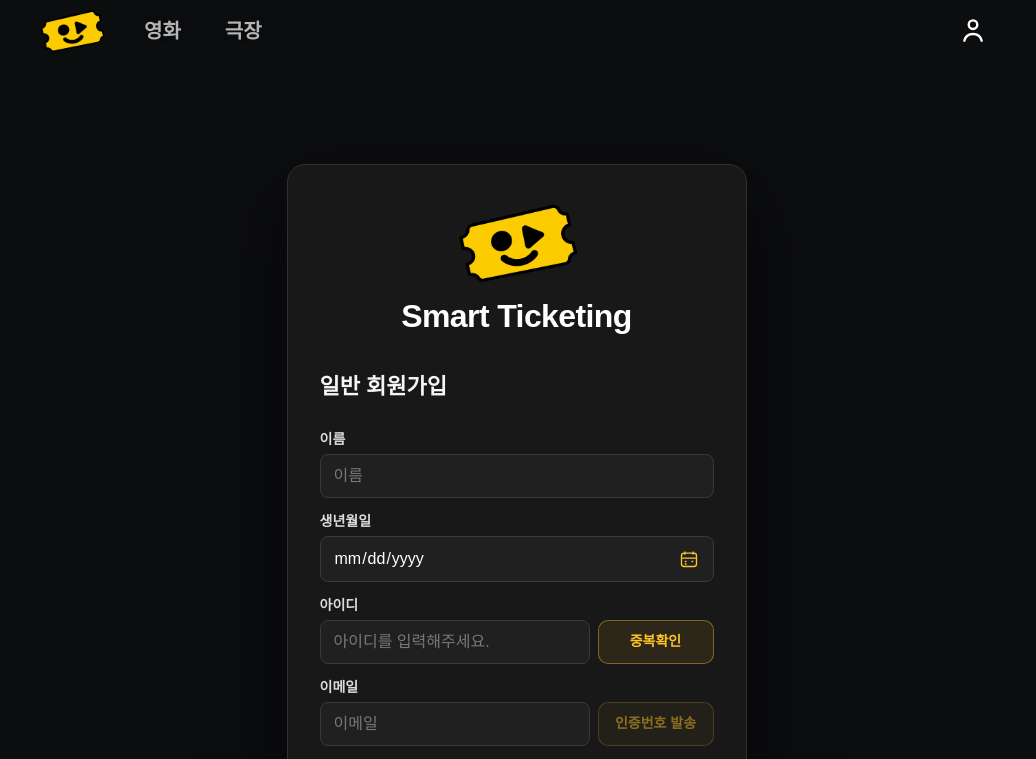
Test: an already taken login ID keeps signup disabled
The image size is (1036, 759).
In the field labelled "아이디": {"x": 454, "y": 642} [320,620,590,664], type "tester@example.com"
(page scrolled)
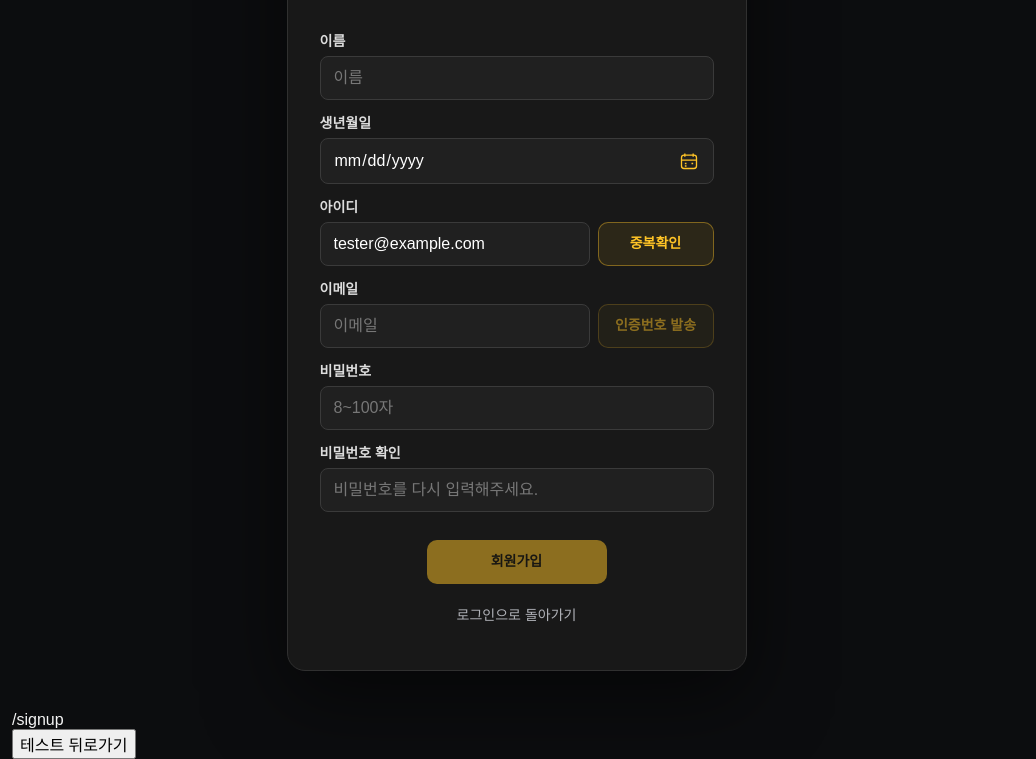
In the password field labelled "비밀번호": {"x": 516, "y": 408} [320,386,714,430], type "password123"
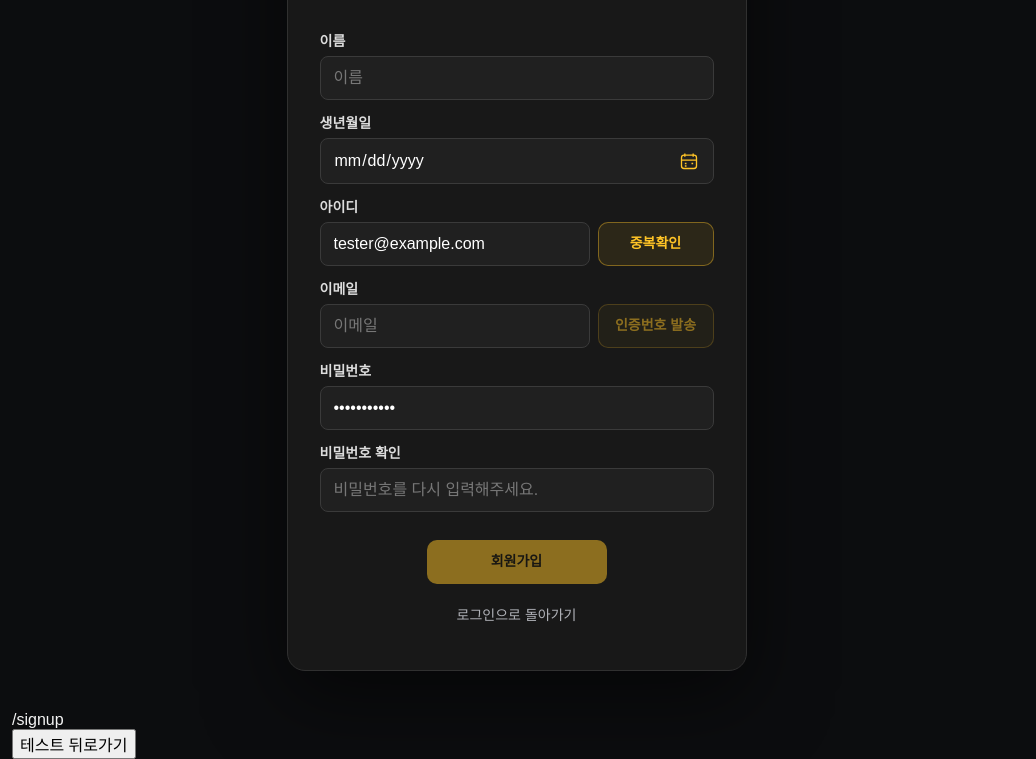
In the password field labelled "비밀번호 확인": {"x": 516, "y": 490} [320,468,714,512], type "password123"
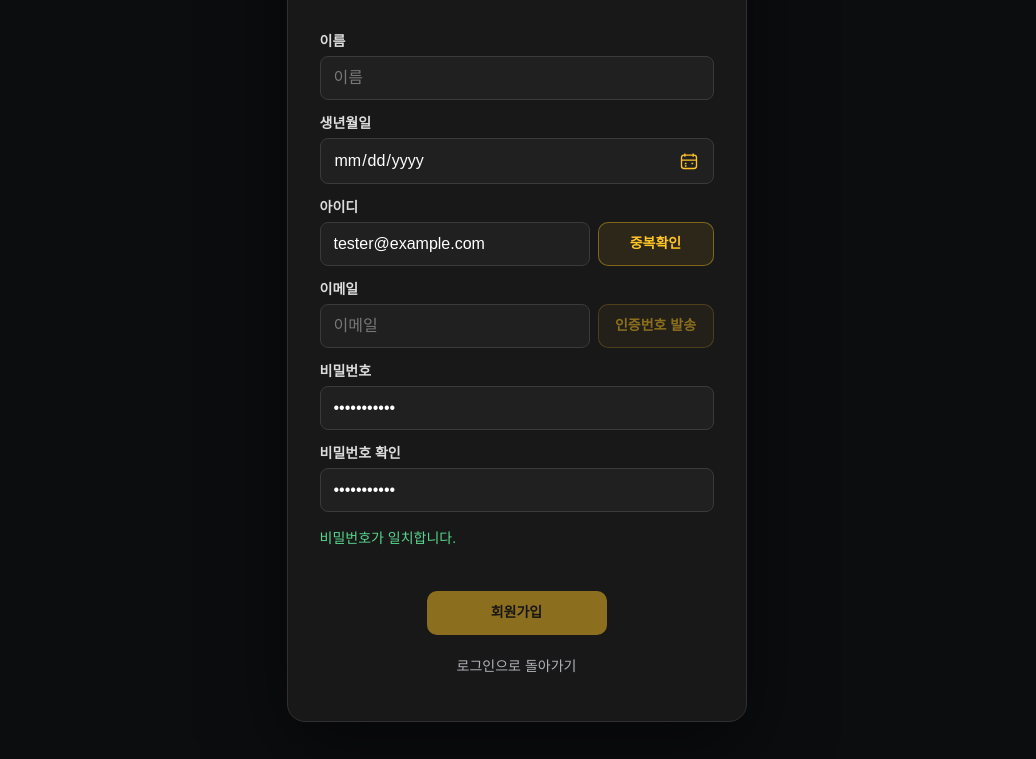
Click the button "중복확인": {"x": 656, "y": 244} [598,222,714,266]
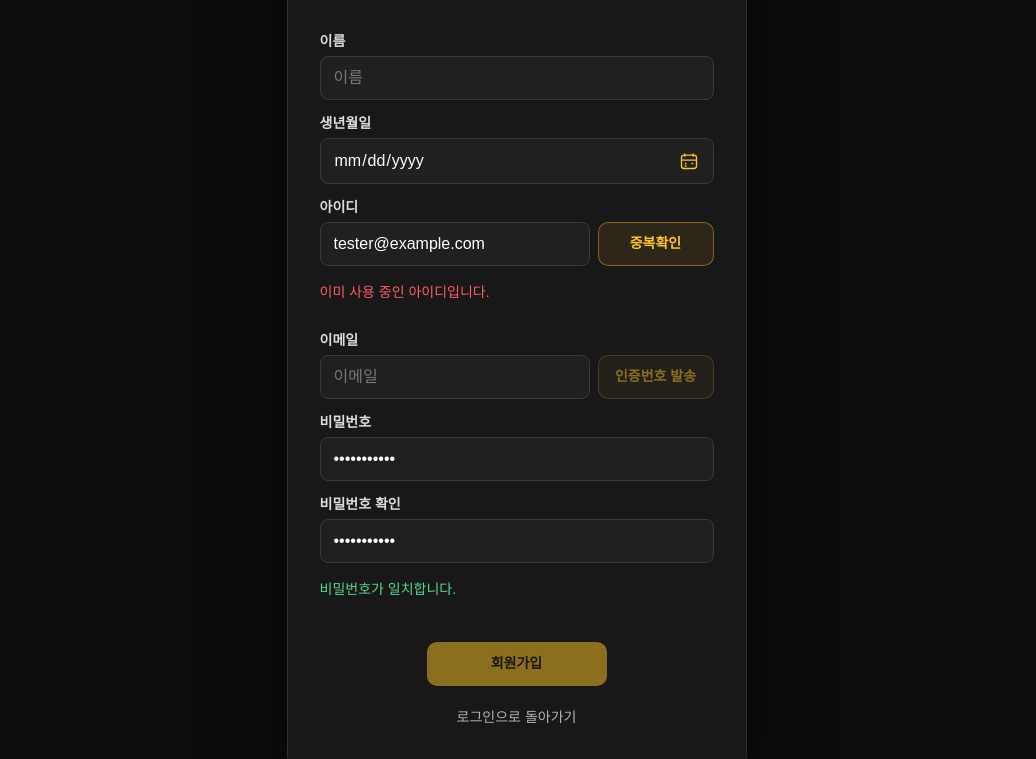
Check: the button "회원가입" is disabled, box [426,642,606,686]
Check: the text "이미 사용 중인 아이디입니다." is shown, box [320,284,490,300]
